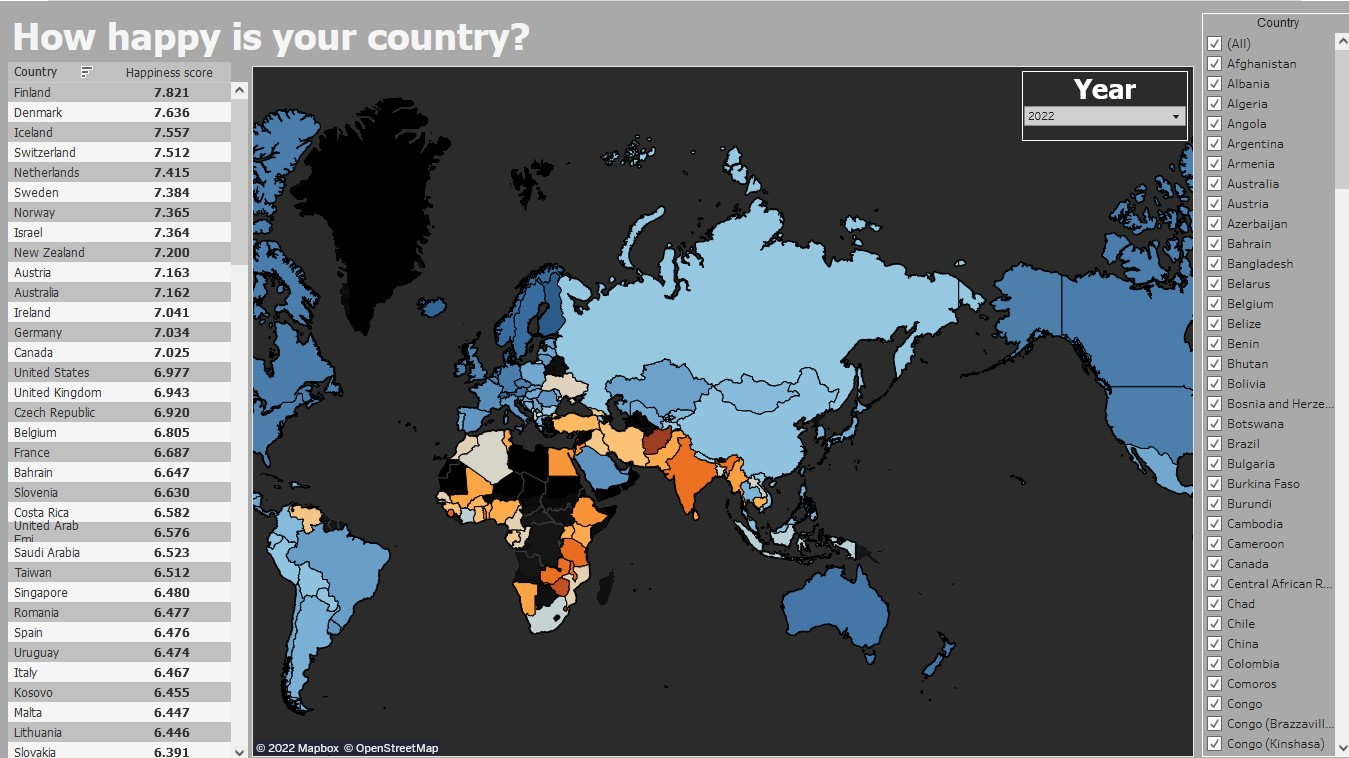

This screenshot's page, from the dashboard's own definition file:
{"tool":"tableau","page":{"name":"Dashboard 1","canvas":[1366,768],"ordinal":0},"visuals":[{"type":"title","box":[8,8,1190,53]},{"type":"filter","title":"Sheet 1","param":"[federated.0rt2ziw0h8y7ox0zuy8qi19fa5kf].[none:Country:nk]","box":[1198,8,160,752]},{"type":"worksheet","title":"Sheet 2","mark":"Automatic","rows":["Country"],"box":[8,61,240,699]},{"type":"worksheet","title":"Sheet 1","mark":"Multipolygon","box":[248,61,950,699]},{"type":"filter","title":"Sheet 1","param":"[federated.0rt2ziw0h8y7ox0zuy8qi19fa5kf].[yr:Year:ok]","box":[1022,70,166,70]}]}

Visuals, with their boxes in screenshot pixels (x1, y1, x2, y2), scaled from the page's 1366x768 canvas onto the 1349x758 screenshot:
title: 8:8:1183:60
"Sheet 1" filter: 1183:8:1341:750
"Sheet 2" worksheet: 8:60:245:750
"Sheet 1" worksheet (Multipolygon marks): 245:60:1183:750
"Sheet 1" filter: 1009:69:1173:138
